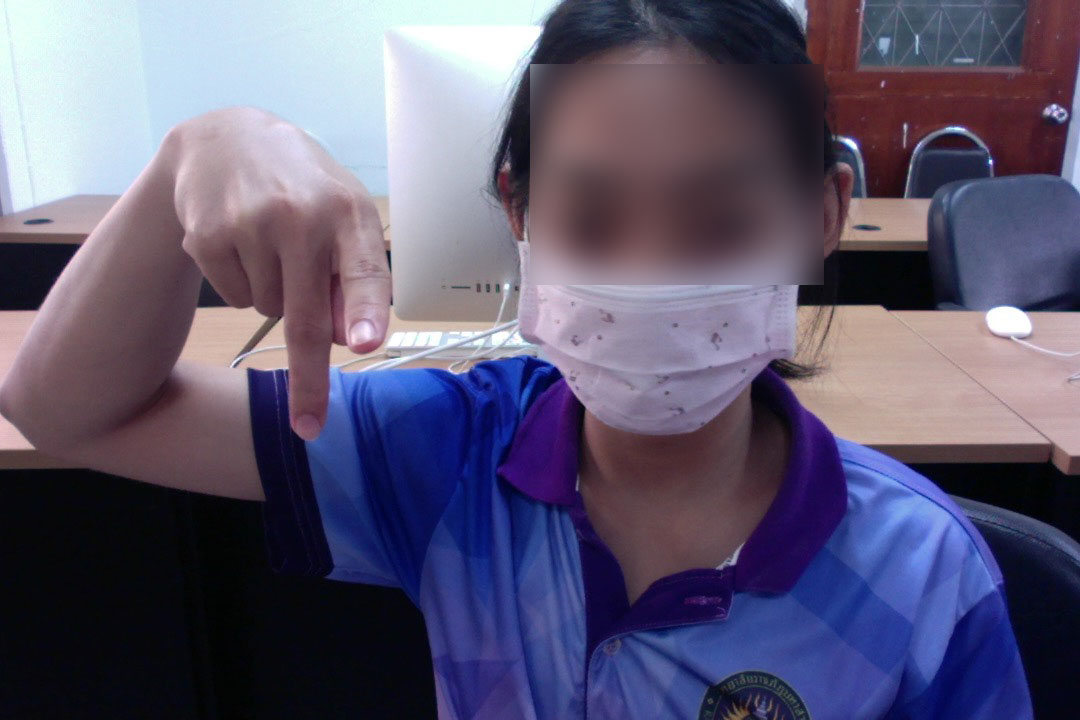por: (159, 94, 402, 452)
